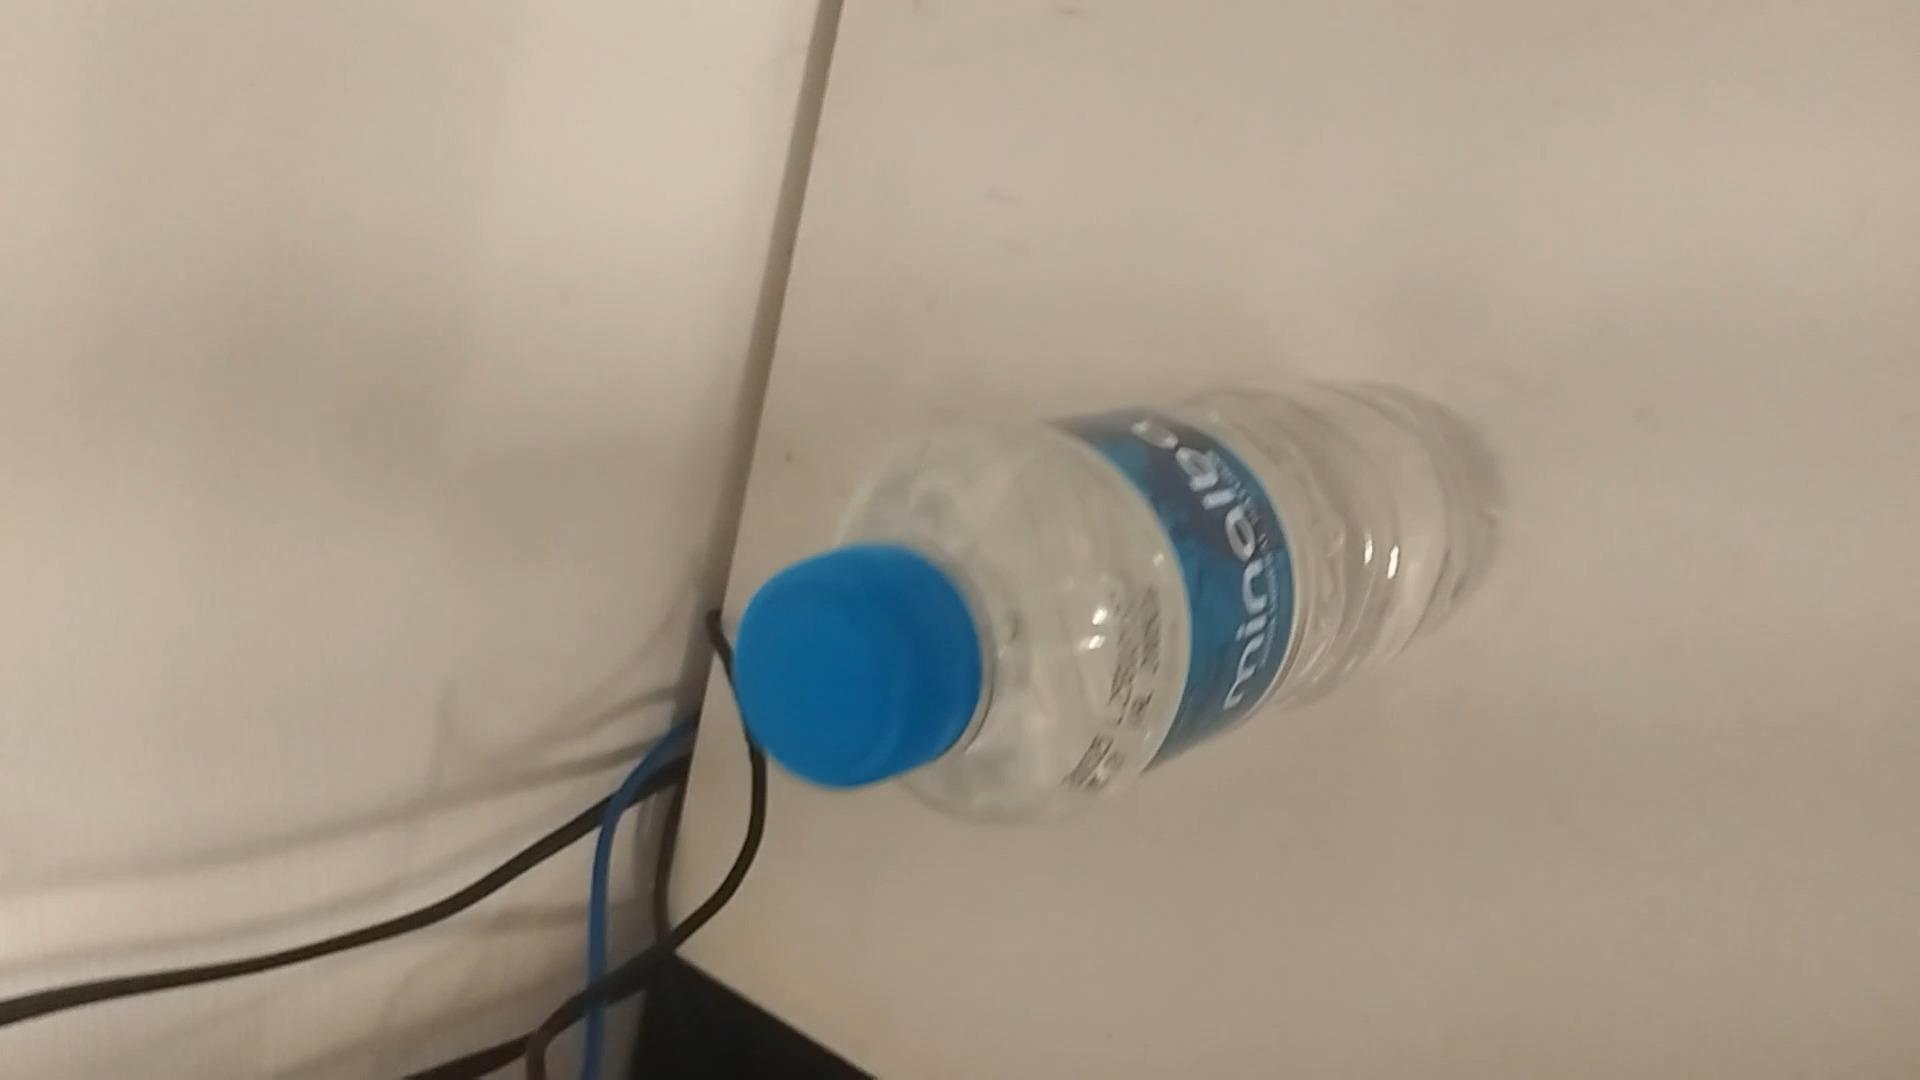agua: (745, 378, 1482, 818)
